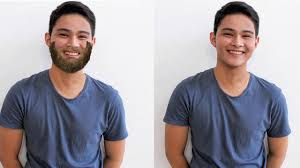asian_male: (198, 1, 265, 82)
